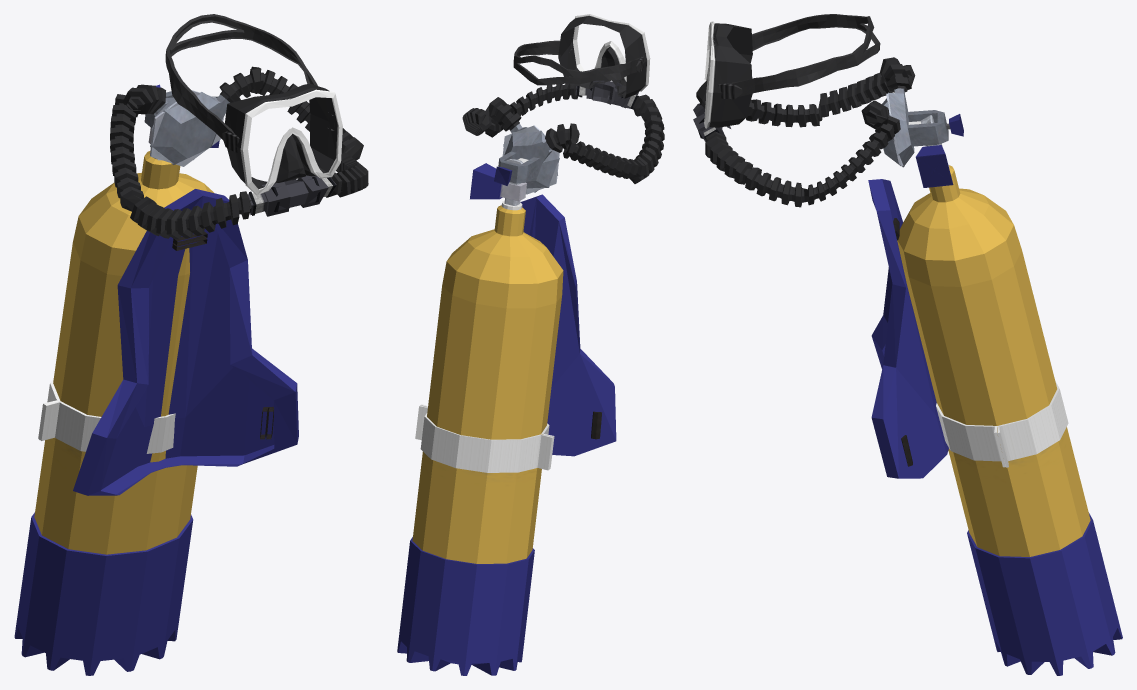
Rendered from mhw_punkduck_diver_scuba_rig.glb.
3 views of the same model, side by side, from view 1: azimuth 30°, elevation 25°; view 2: azimuth 150°, elevation 25°; view 3: azimuth 270°, elevation 25° (orthographic). The views are drawn at different scales.
Parts seen in each view (by area): view 1: mhw_punkduck_diver_scuba_rig; view 2: mhw_punkduck_diver_scuba_rig; view 3: mhw_punkduck_diver_scuba_rig.
Part boxes in pixels (x1,y1,x2,y2): mhw_punkduck_diver_scuba_rig: (14, 14, 368, 675); mhw_punkduck_diver_scuba_rig: (397, 14, 664, 675); mhw_punkduck_diver_scuba_rig: (693, 14, 1122, 675).
Bounding box in the file's own units: 0.3401 × 0.9548 × 0.5908.
Materials: 1 (1 with a texture image).
